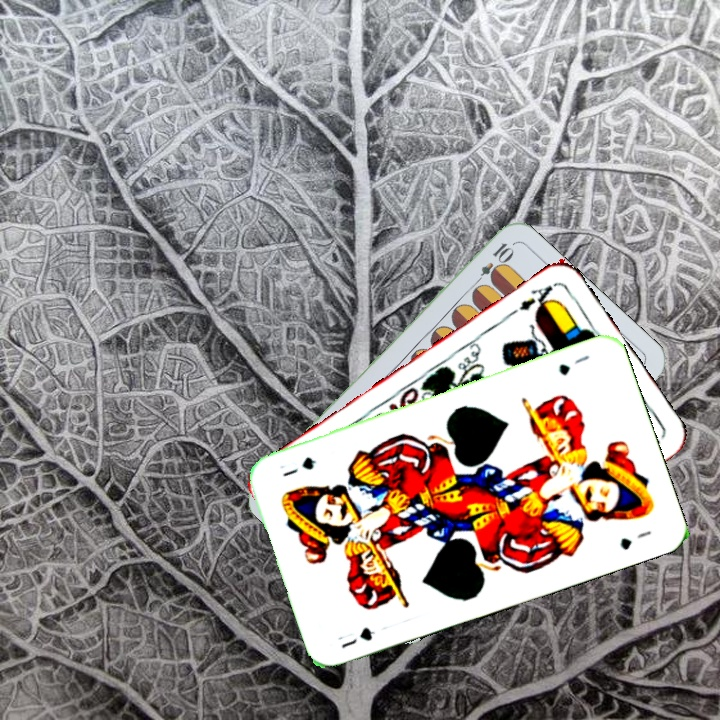E10: (469, 238, 516, 290)
EA: (505, 280, 557, 319)
GU: (337, 623, 377, 651), (554, 351, 592, 378)
